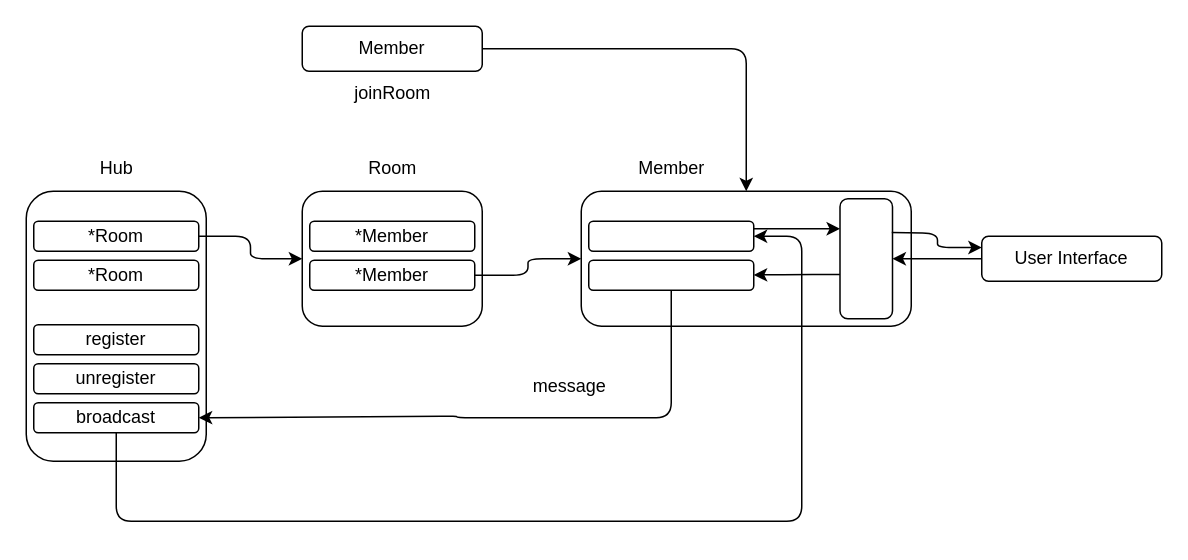
Image size: 1188x560. Some labels were removed from this diagram. Here are the shapes that lost their labels. From the top down, the centre of each, then its label:
At (670,235): "writeMessage".
At (670,274): "readMessage".
At (865,258): "websocket connection".
